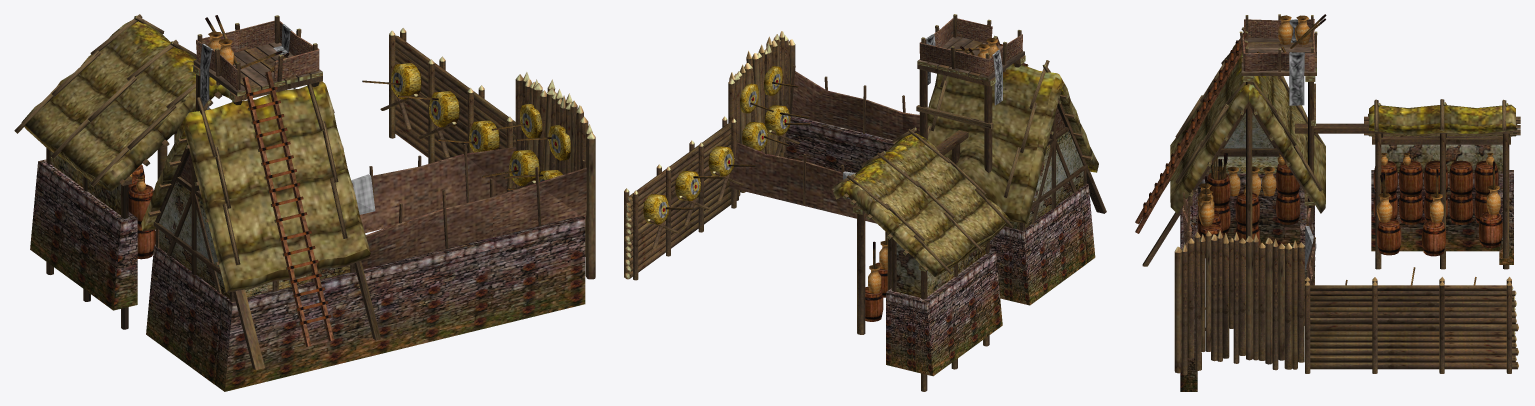
Rendered from s_gauls_range.glb.
3 renders of one model, left to right at view 1: azimuth 30°, elevation 25°; view 2: azimuth 150°, elevation 25°; view 3: azimuth 270°, elevation 25°, orthographic. The views are drawn at different scales.
Visible parts, largest first — view 1: s_gauls_range_part0; view 2: s_gauls_range_part0; view 3: s_gauls_range_part0.
Boxes of the visible parts, box(x1,y1,x2,y2) form: s_gauls_range_part0: box(14, 14, 595, 391); s_gauls_range_part0: box(624, 14, 1106, 391); s_gauls_range_part0: box(1135, 14, 1520, 391).
Bounding box in the file's own units: 3.8 × 2.96 × 3.75.
Materials: 1 (1 with a texture image).
